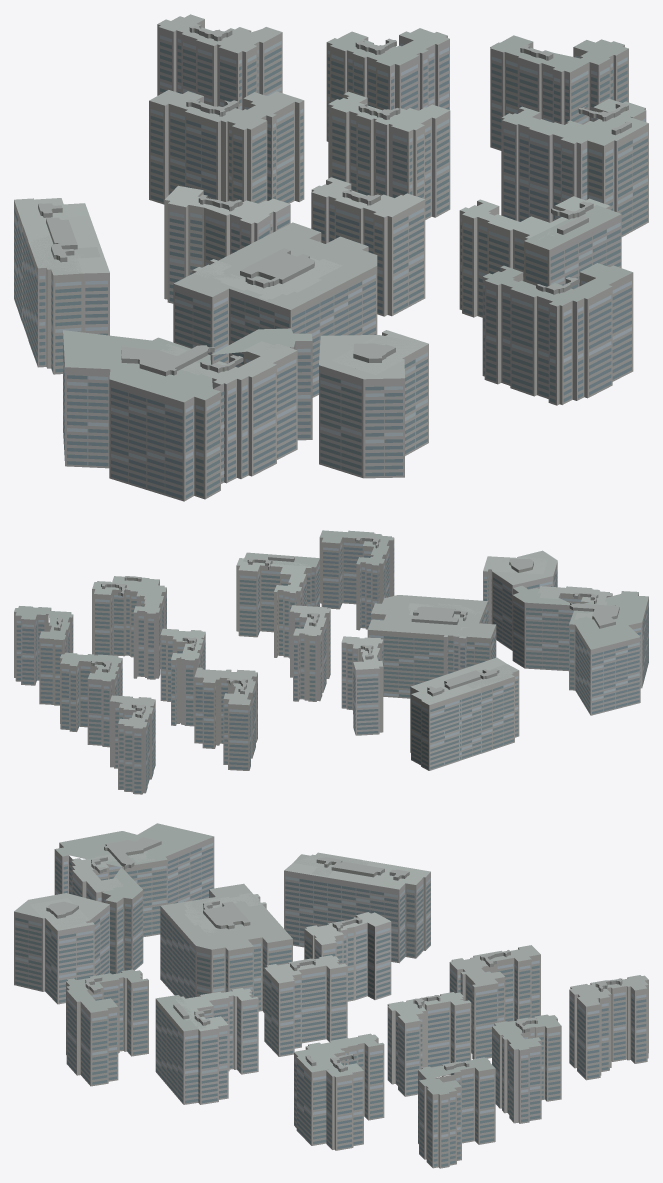
File: apt-a10020344.glb
The picture shows the model from 3 angles, top to bottom: view 1: azimuth 30°, elevation 25°; view 2: azimuth 150°, elevation 25°; view 3: azimuth 270°, elevation 25°; orthographic projection. The views are drawn at different scales.
Parts seen in each view (by area): view 1: apt-a10020344; view 2: apt-a10020344; view 3: apt-a10020344.
Boxes of the visible parts, box(x1,y1,x2,y2) form: apt-a10020344: box(14, 14, 648, 501); apt-a10020344: box(14, 530, 648, 794); apt-a10020344: box(14, 823, 648, 1168).
Size of the model in its own units: 362 by 47.81 by 358.
